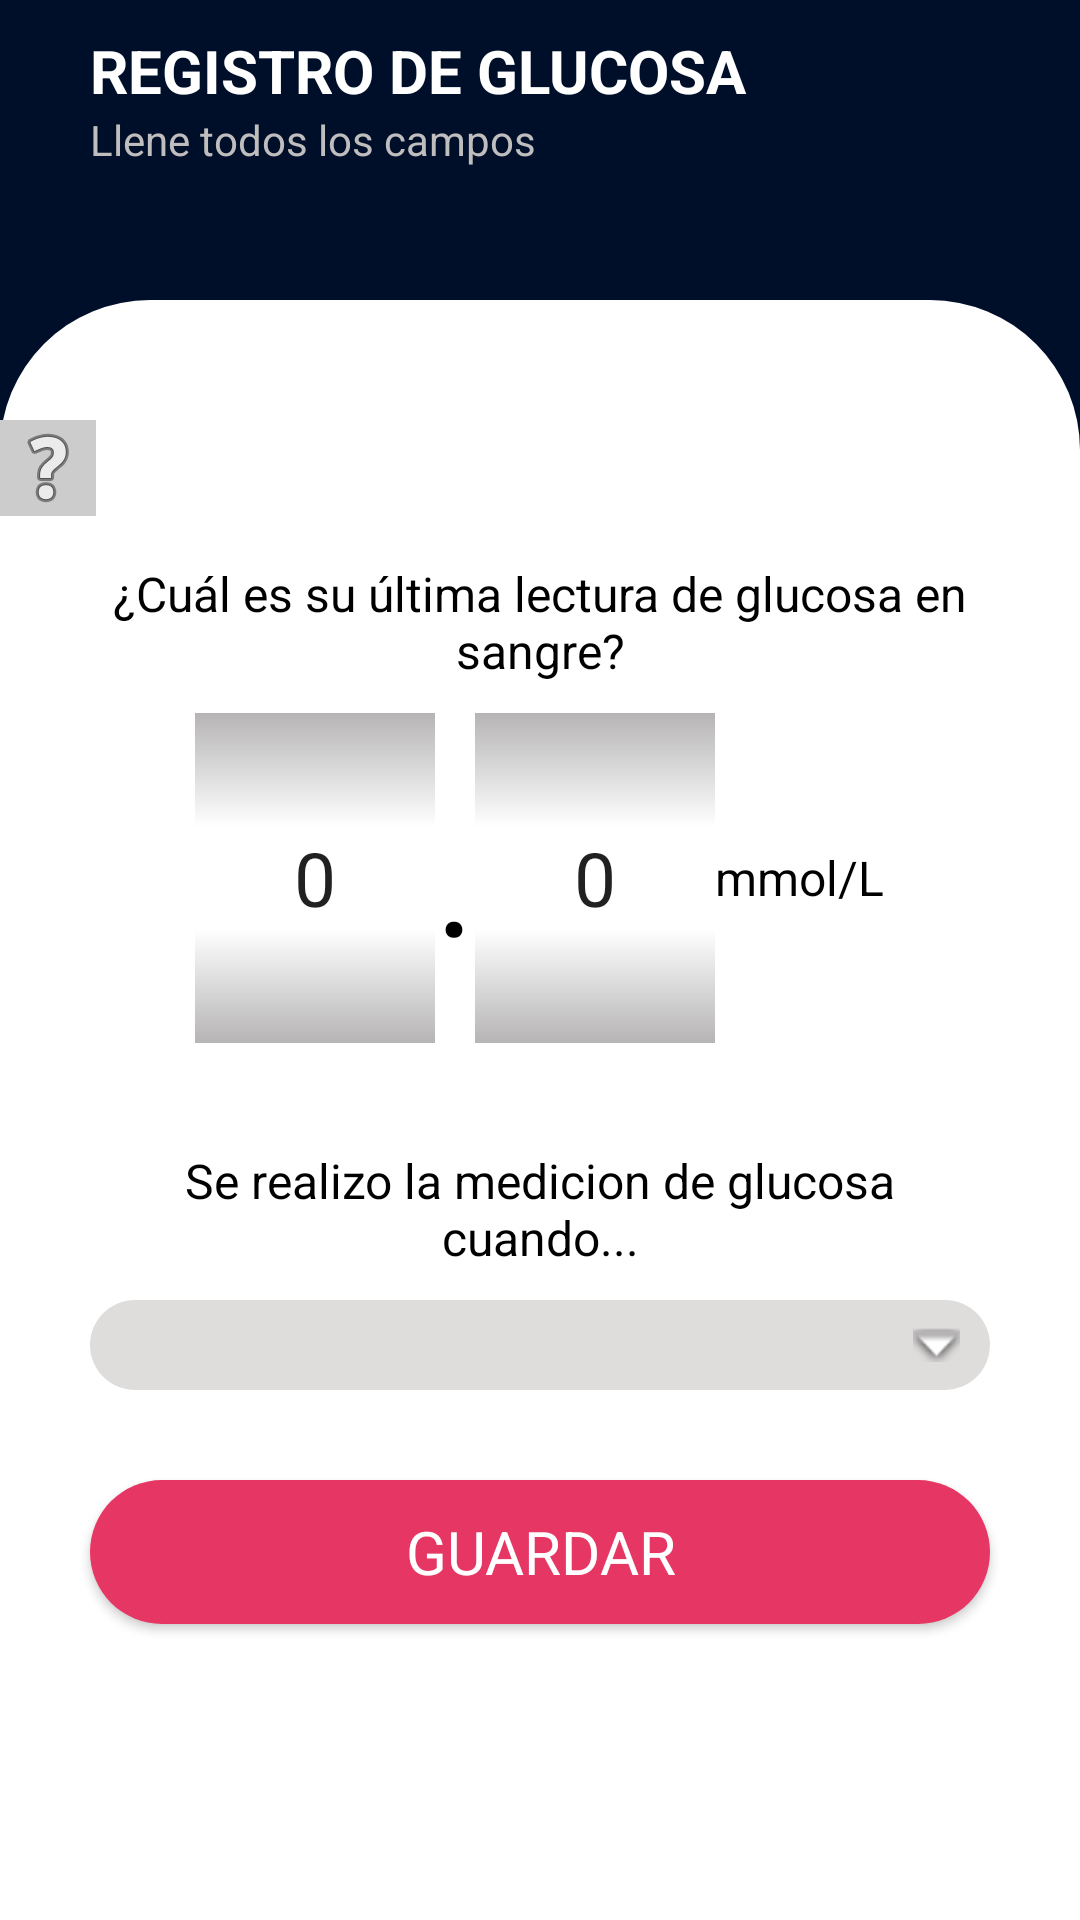

Where icons sit on this 1080 x 1920 app screen, as box(x1, y1, x2, y2):
help: box(0, 420, 96, 516)
